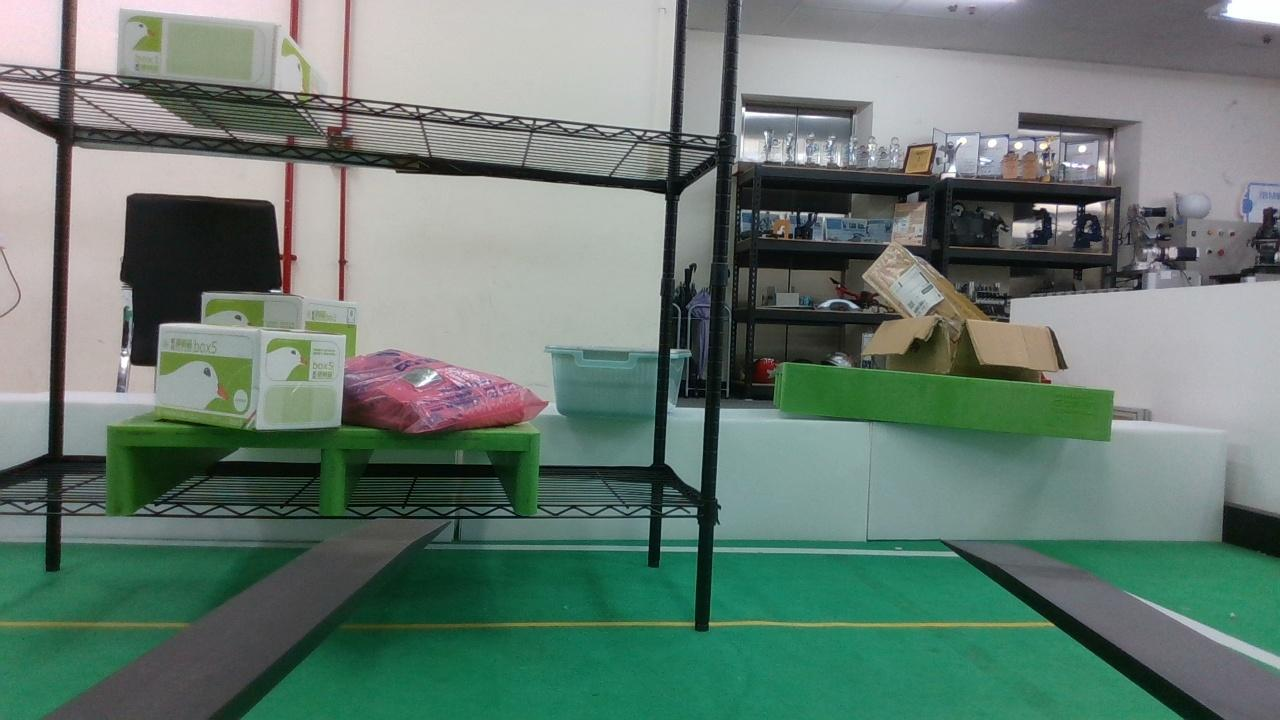Pallet: (106, 422, 542, 516)
